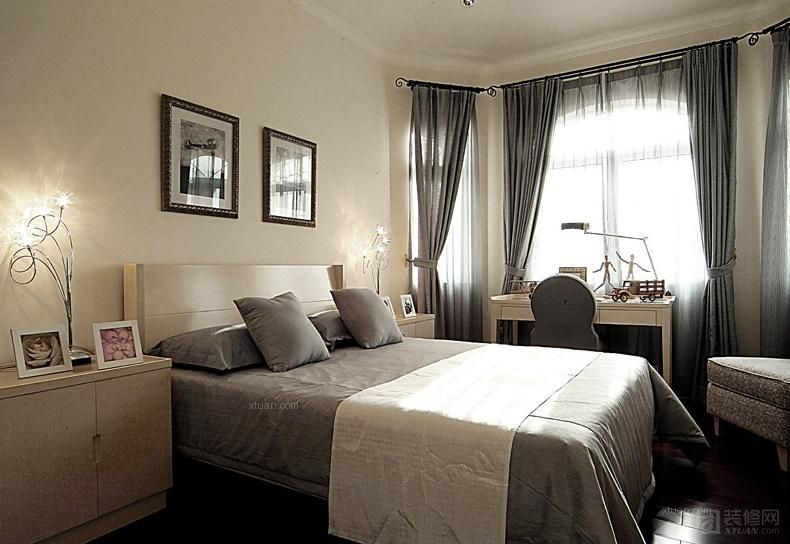床: (151, 334, 684, 532)
枕头: (161, 286, 408, 376)
灯: (10, 183, 81, 334), (556, 218, 661, 302), (361, 223, 390, 283)
